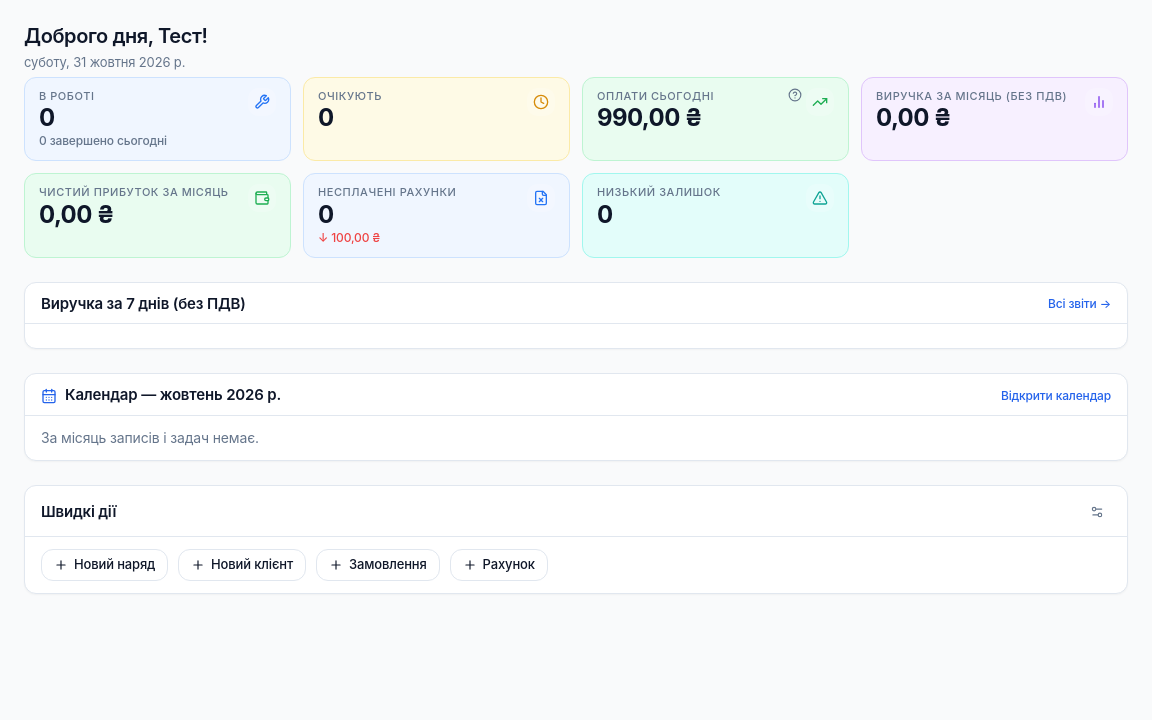
Test: Дашборд — показники (TECH-DEBT §8, §10 п. 26) › «Оплати сьогодні»: «?» поза посиланням картки пояснює, що сума чиста
Click the button named "Як рахуються оплати сьогодні" at (795, 94), box [785,84,805,104]
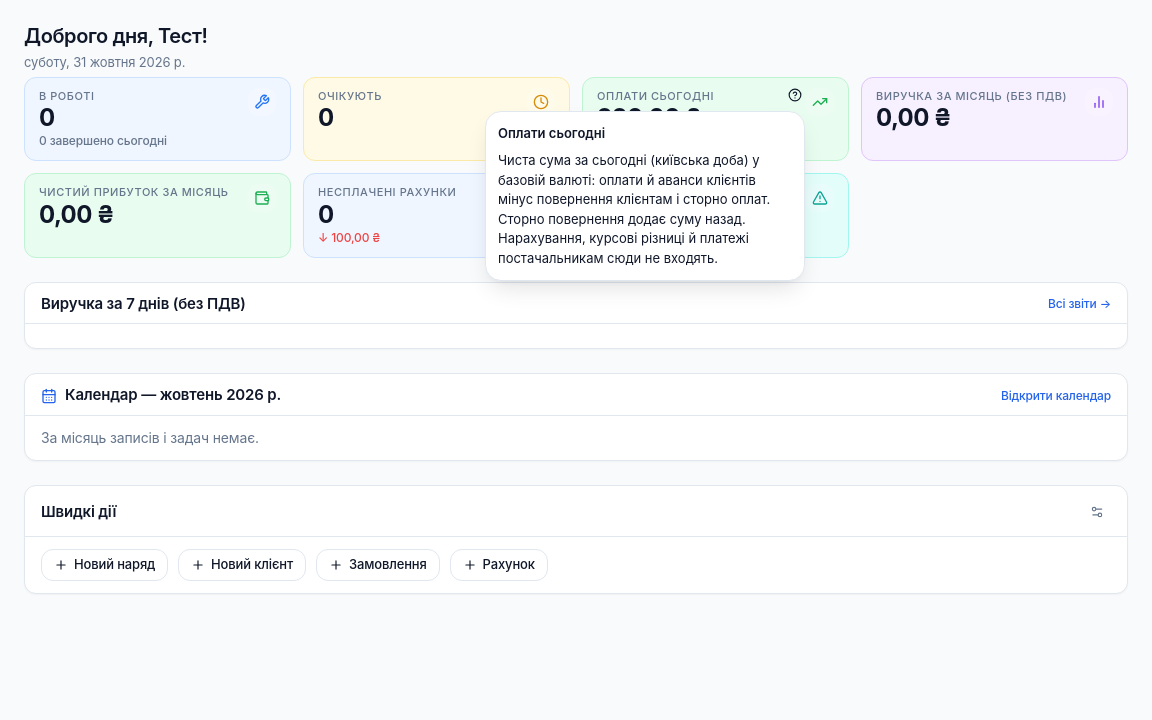
Expected: the dialog "Оплати сьогодні" shows "мінус повернення клієнтам і сторно оплат", [498,152,770,266]
